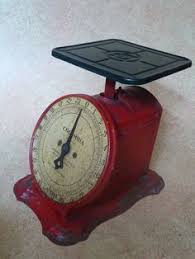Industrial Scale: (11, 38, 192, 247)
